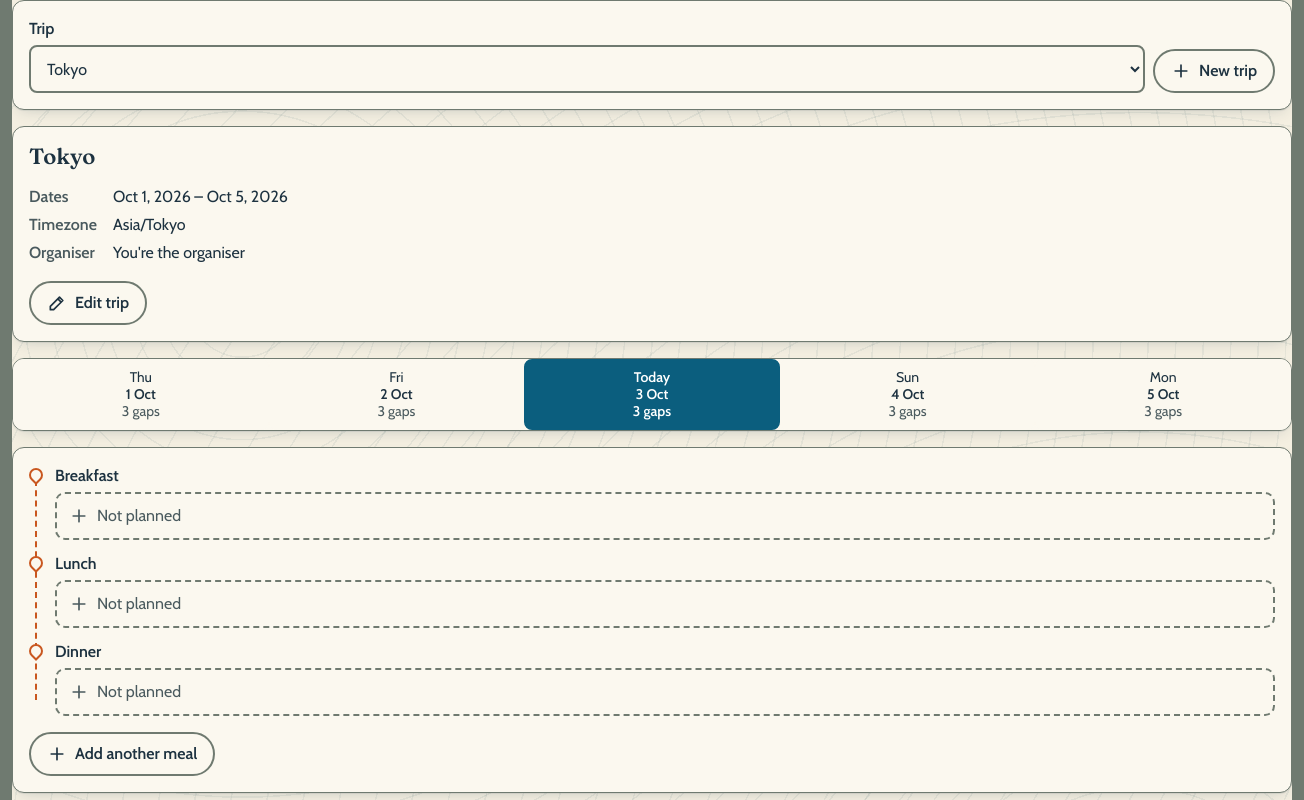
Test case: editing a trip › the organiser can rename it and change its dates and timezone
The width and height of the screenshot is (1304, 800).
Click the button "Edit trip" at point(88, 303), box top-left (29, 281), bottom-right (147, 325)
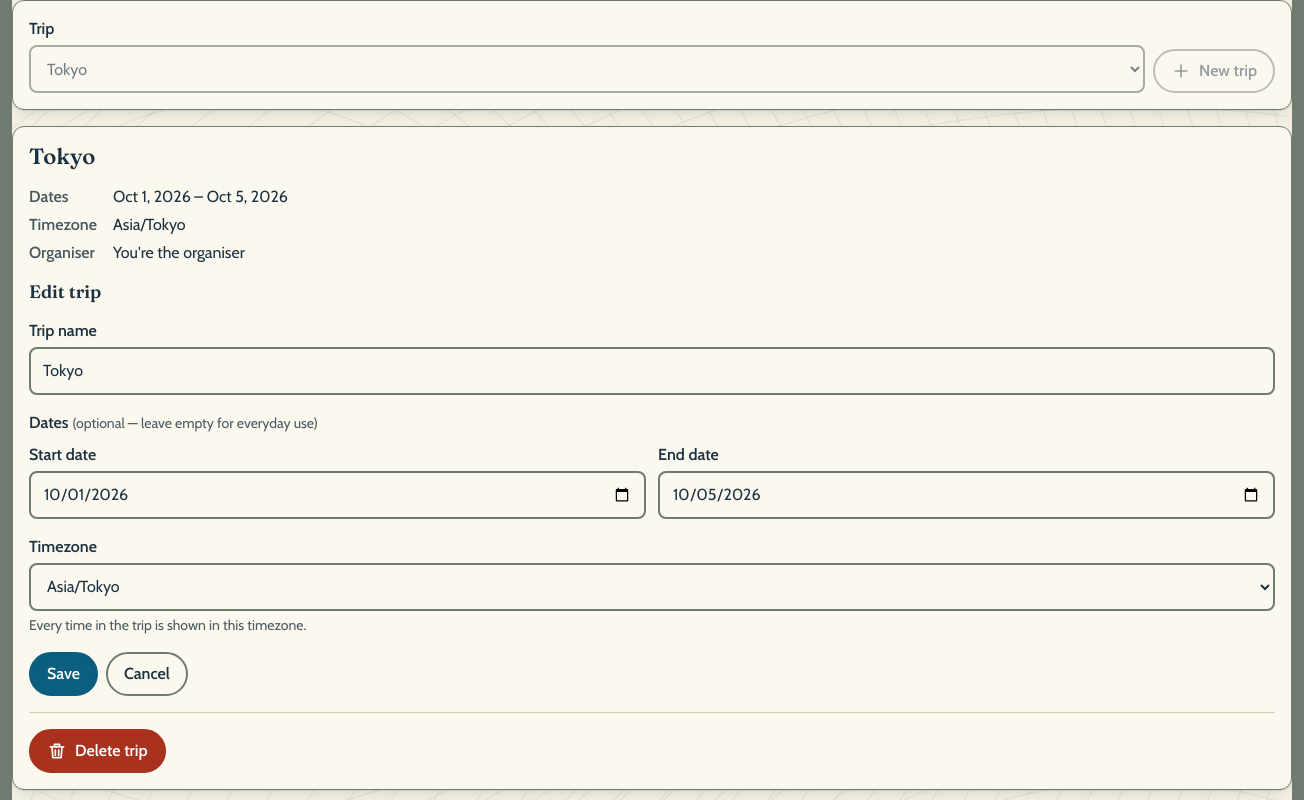
Replace the text in the field labelled "Trip name" with "Tokyo and Hakone" at point(652, 371), box top-left (29, 347), bottom-right (1275, 395)
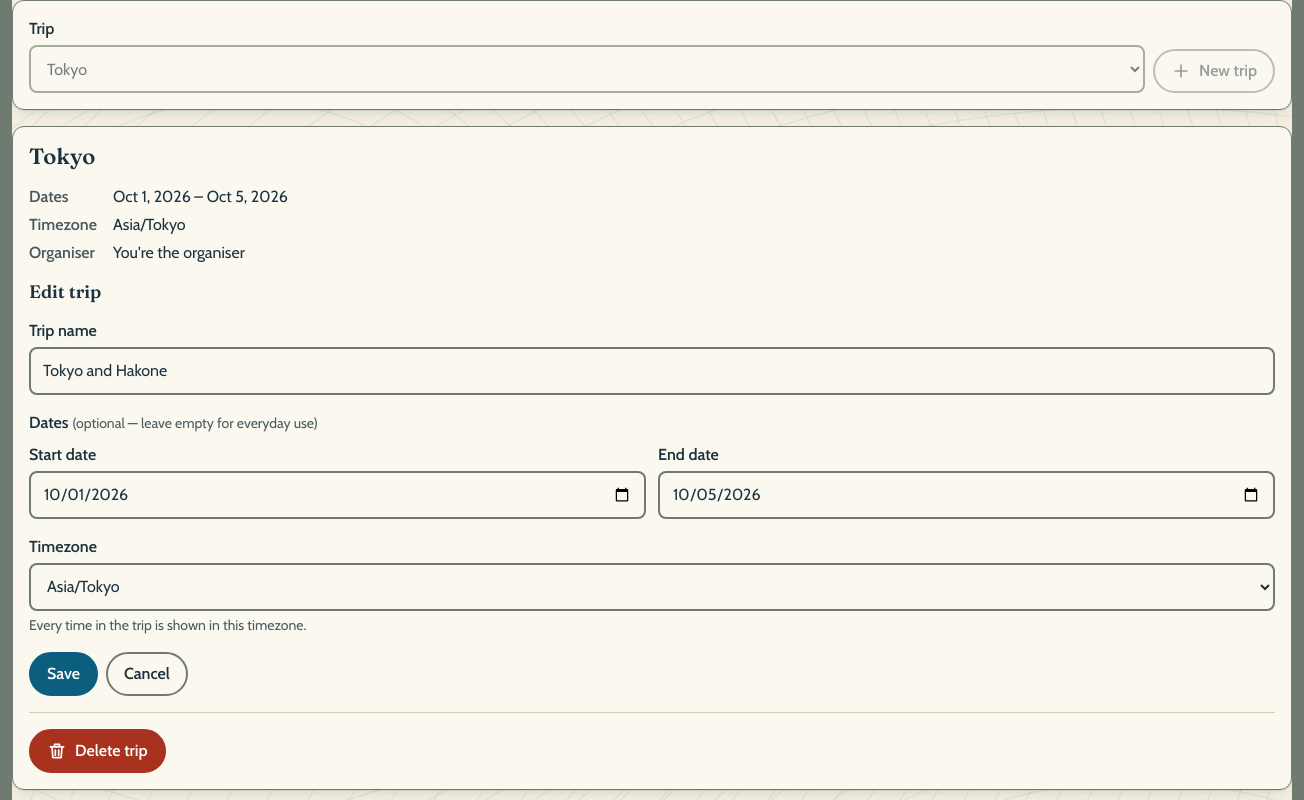
Type "2026-10-07" into the date field labelled "End date" at point(966, 495), box top-left (658, 471), bottom-right (1275, 519)
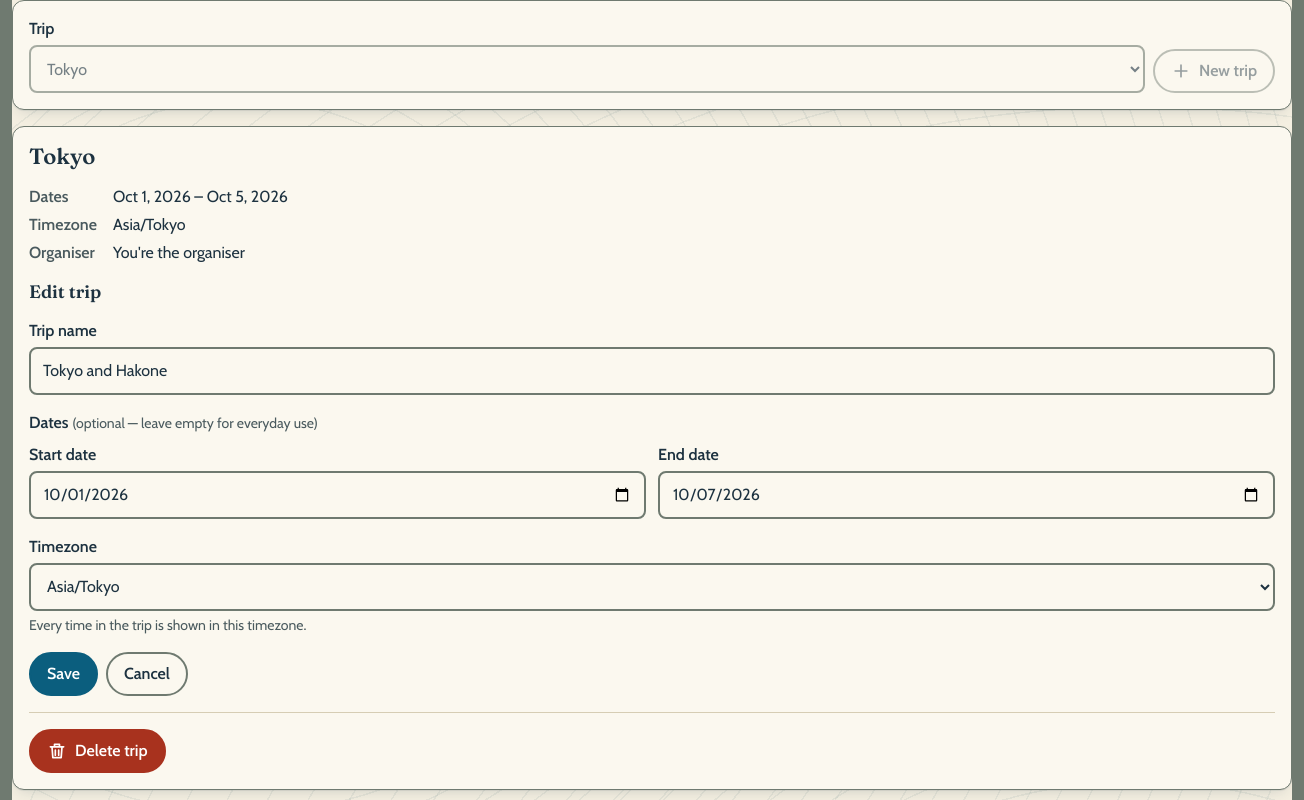
Select "Asia/Seoul" in the dropdown labelled "Timezone" at point(652, 587), box top-left (29, 563), bottom-right (1275, 611)
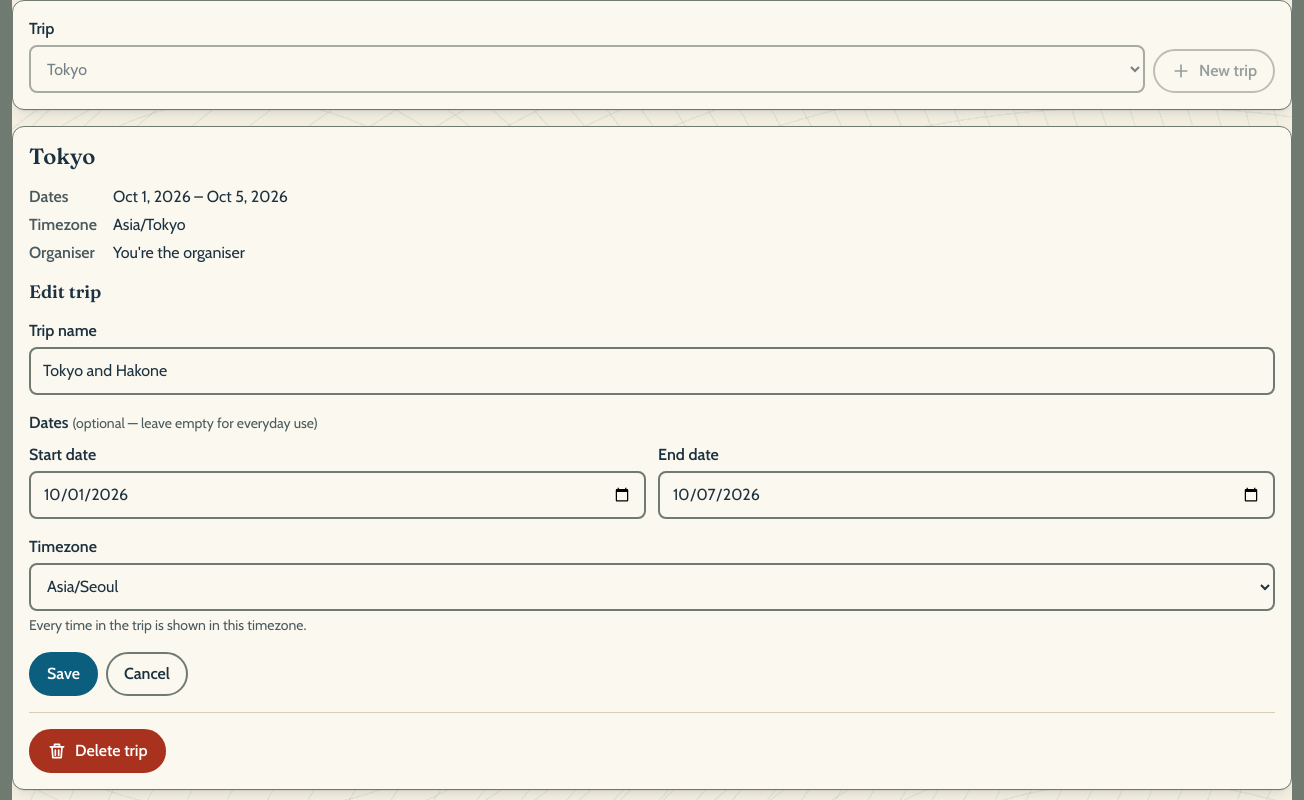
Submit the form, box top-left (29, 281), bottom-right (1275, 773)
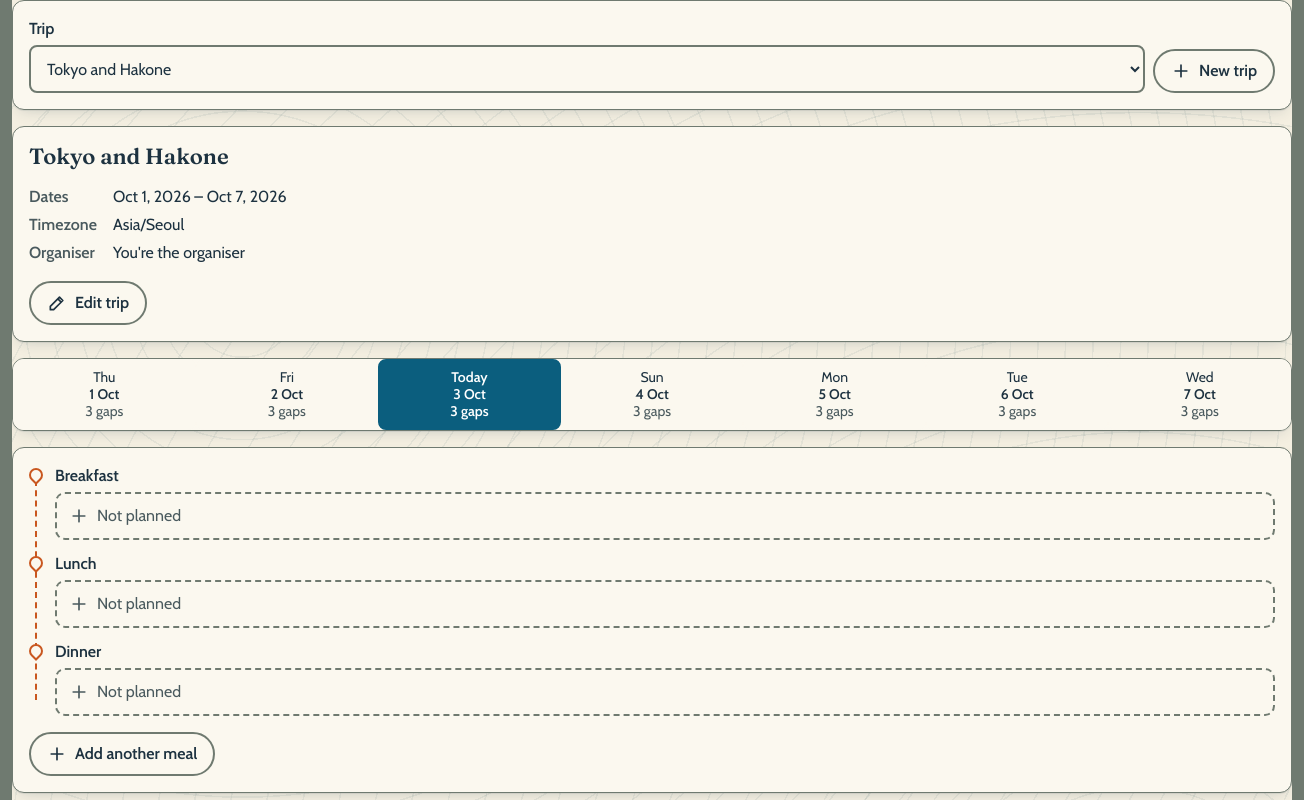
Expected: the text "Asia/Seoul" is shown, top-left (113, 215), bottom-right (184, 234)
Expected: the text "Oct 7, 2026" is shown, top-left (207, 187), bottom-right (287, 206)
